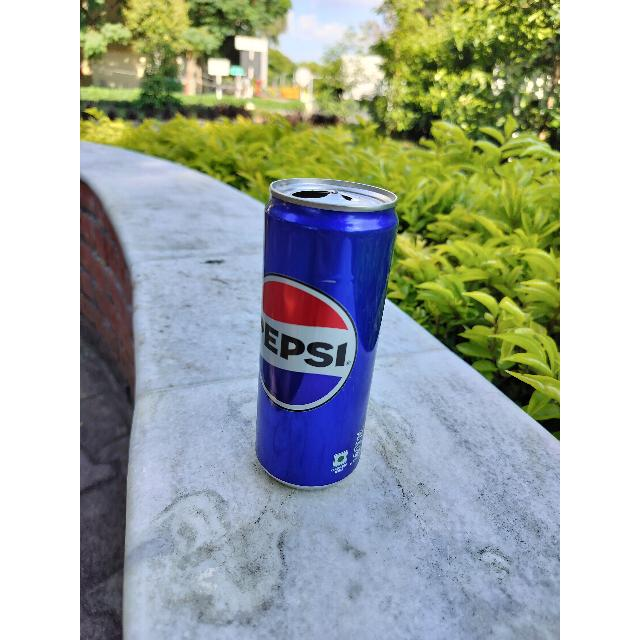Pepsi: (243, 172, 404, 490)
